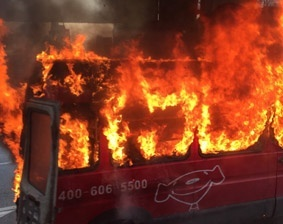fire: (39, 16, 283, 164)
